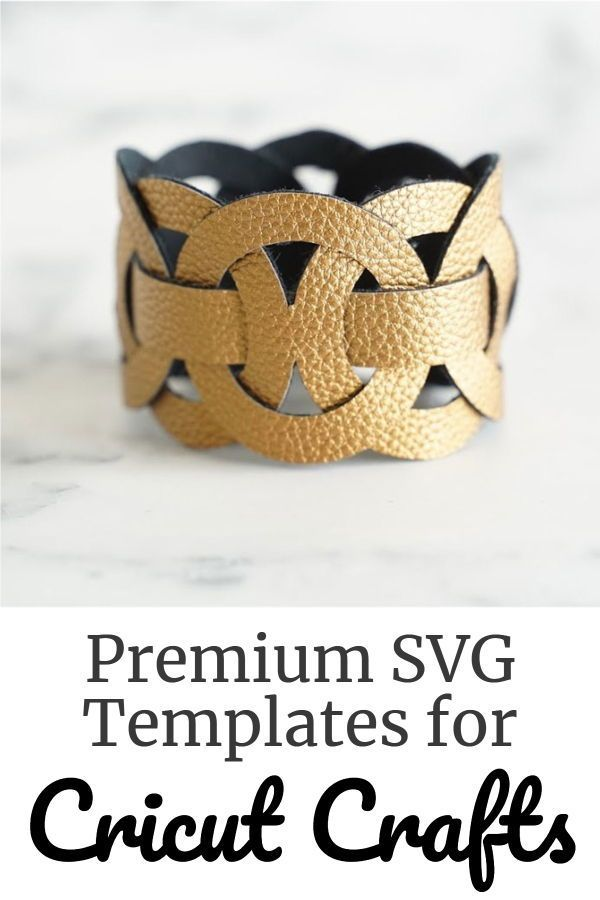cuero: (111, 154, 518, 462)
